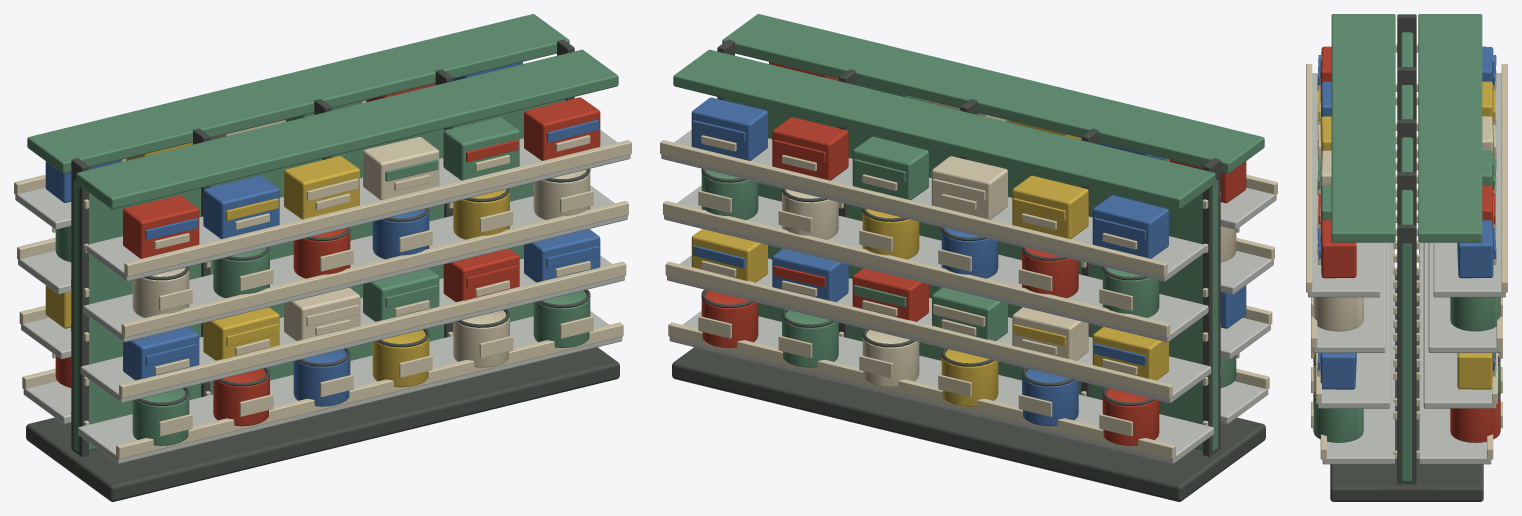
Rendered from miller_gondola_general.glb.
The picture shows the model from 3 angles, left to right: view 1: azimuth 30°, elevation 25°; view 2: azimuth 150°, elevation 25°; view 3: azimuth 270°, elevation 25°; orthographic projection. The views are drawn at different scales.
Parts seen in each view (by area): view 1: miller_gondola_general_miller_forest_enamel_pbr, miller_gondola_general_miller_aged_cream_enamel_pbr, miller_gondola_general_miller_galvanized_steel_pbr, miller_gondola_general_miller_blackened_steel_pbr, miller_gondola_general_miller_paint_blue_enamel_pbr, miller_gondola_general_miller_safety_red_enamel_pbr, miller_gondola_general_miller_safety_yellow_enamel_pbr; view 2: miller_gondola_general_miller_forest_enamel_pbr, miller_gondola_general_miller_aged_cream_enamel_pbr, miller_gondola_general_miller_galvanized_steel_pbr, miller_gondola_general_miller_blackened_steel_pbr, miller_gondola_general_miller_paint_blue_enamel_pbr, miller_gondola_general_miller_safety_red_enamel_pbr, miller_gondola_general_miller_safety_yellow_enamel_pbr; view 3: miller_gondola_general_miller_forest_enamel_pbr, miller_gondola_general_miller_galvanized_steel_pbr, miller_gondola_general_miller_blackened_steel_pbr, miller_gondola_general_miller_aged_cream_enamel_pbr, miller_gondola_general_miller_safety_red_enamel_pbr, miller_gondola_general_miller_paint_blue_enamel_pbr, miller_gondola_general_miller_safety_yellow_enamel_pbr.
Part boxes in pixels (x1,y1,x2,y2): miller_gondola_general_miller_forest_enamel_pbr: (27, 14, 618, 451); miller_gondola_general_miller_aged_cream_enamel_pbr: (14, 100, 631, 459); miller_gondola_general_miller_galvanized_steel_pbr: (15, 130, 630, 463); miller_gondola_general_miller_blackened_steel_pbr: (26, 39, 619, 501); miller_gondola_general_miller_paint_blue_enamel_pbr: (45, 62, 600, 406); miller_gondola_general_miller_safety_red_enamel_pbr: (55, 83, 600, 426); miller_gondola_general_miller_safety_yellow_enamel_pbr: (45, 142, 509, 387); miller_gondola_general_miller_forest_enamel_pbr: (673, 14, 1264, 451); miller_gondola_general_miller_aged_cream_enamel_pbr: (660, 100, 1277, 459); miller_gondola_general_miller_galvanized_steel_pbr: (661, 130, 1276, 463); miller_gondola_general_miller_blackened_steel_pbr: (672, 39, 1265, 501); miller_gondola_general_miller_paint_blue_enamel_pbr: (691, 97, 1246, 426); miller_gondola_general_miller_safety_red_enamel_pbr: (701, 62, 1246, 445); miller_gondola_general_miller_safety_yellow_enamel_pbr: (691, 120, 1168, 406); miller_gondola_general_miller_forest_enamel_pbr: (1313, 14, 1500, 481); miller_gondola_general_miller_galvanized_steel_pbr: (1308, 73, 1505, 464); miller_gondola_general_miller_blackened_steel_pbr: (1313, 14, 1500, 501); miller_gondola_general_miller_aged_cream_enamel_pbr: (1306, 44, 1507, 459); miller_gondola_general_miller_safety_red_enamel_pbr: (1318, 46, 1500, 442); miller_gondola_general_miller_paint_blue_enamel_pbr: (1317, 46, 1496, 389); miller_gondola_general_miller_safety_yellow_enamel_pbr: (1313, 81, 1495, 389).
Bounding box in the file's own units: 3.74 × 2.15 × 1.45.
